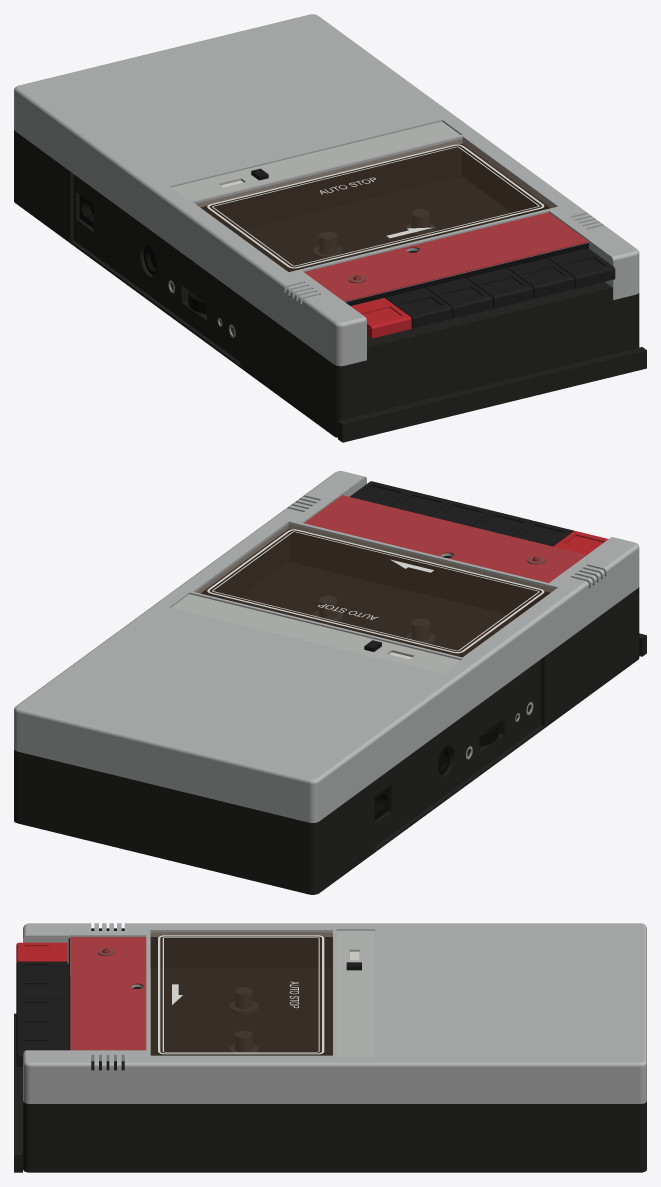
File: crc1001.glb
3 renders of one model, top to bottom at view 1: azimuth 30°, elevation 25°; view 2: azimuth 150°, elevation 25°; view 3: azimuth 270°, elevation 25°, orthographic. The views are drawn at different scales.
Visible parts, largest first — view 1: top-shell, base, cassette-window, interior, socket-panel, red-panel, handle, badge, lid-ink, stop-eject-key, play-key, pause-key (+5 smaller); view 2: top-shell, base, cassette-window, interior, socket-panel, red-panel, badge, lid-ink, spindles, play-key, advance-key, stop-eject-key (+4 smaller); view 3: top-shell, base, cassette-window, interior, red-panel, badge, lid-ink, spindles, handle, record-key, play-key, rewind-key (+3 smaller).
Boxes of the visible parts, x1,y1,x2,y2 form: top-shell: (14,14,639,366); base: (14,130,639,437); cassette-window: (196,139,554,271); interior: (200,144,588,305); socket-panel: (73,174,240,361); red-panel: (304,212,588,301); handle: (338,347,646,442); badge: (171,121,459,200); lid-ink: (207,144,544,268); stop-eject-key: (508,258,574,298); play-key: (385,288,452,328); pause-key: (548,248,615,288); top-shell: (14,471,639,822); base: (14,587,639,894); cassette-window: (196,524,554,657); interior: (201,529,605,657); socket-panel: (374,659,540,846); red-panel: (304,495,586,582); badge: (171,594,460,673); lid-ink: (207,529,544,653); spindles: (313,596,435,646); play-key: (512,521,573,546); advance-key: (431,501,492,526); stop-eject-key: (390,491,451,516); top-shell: (23,923,646,1103); base: (23,964,646,1172); cassette-window: (150,932,332,1055); interior: (68,928,332,1070); red-panel: (70,937,146,1050); badge: (336,930,374,1056); lid-ink: (158,935,324,1054); spindles: (229,987,258,1055); handle: (14,1013,22,1172); record-key: (16,942,67,963); play-key: (16,961,67,981); rewind-key: (16,980,67,1000).
Bounding box in the file's own units: 0.1396 × 0.051 × 0.2634.
